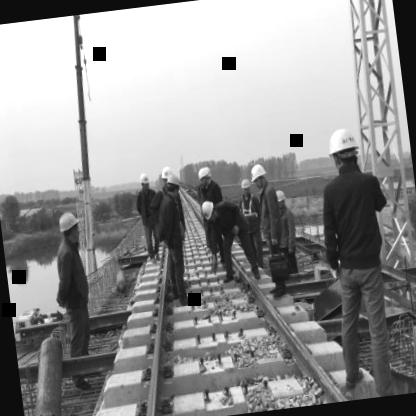helmet: (324, 122, 364, 176), (54, 206, 83, 248), (134, 166, 154, 196), (249, 159, 268, 190), (165, 172, 185, 197), (194, 164, 213, 189), (200, 197, 218, 221), (236, 174, 253, 198), (158, 163, 174, 188), (274, 186, 288, 208)
